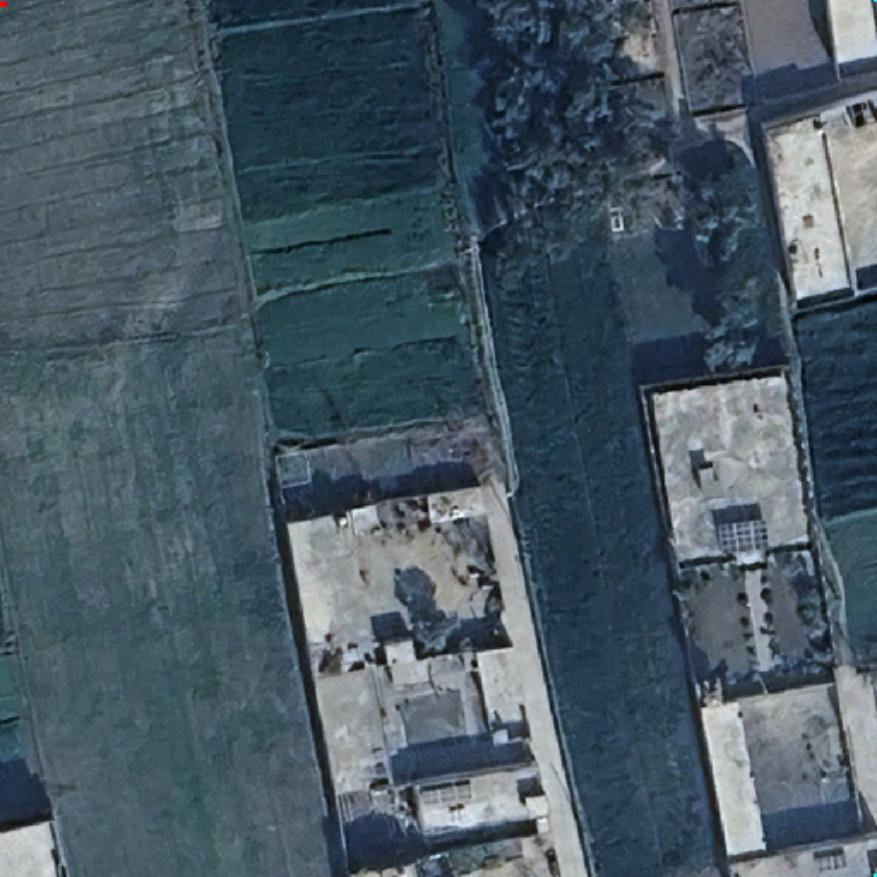Solarpanel: (713, 514, 773, 558), (416, 781, 478, 808), (812, 848, 849, 874)
